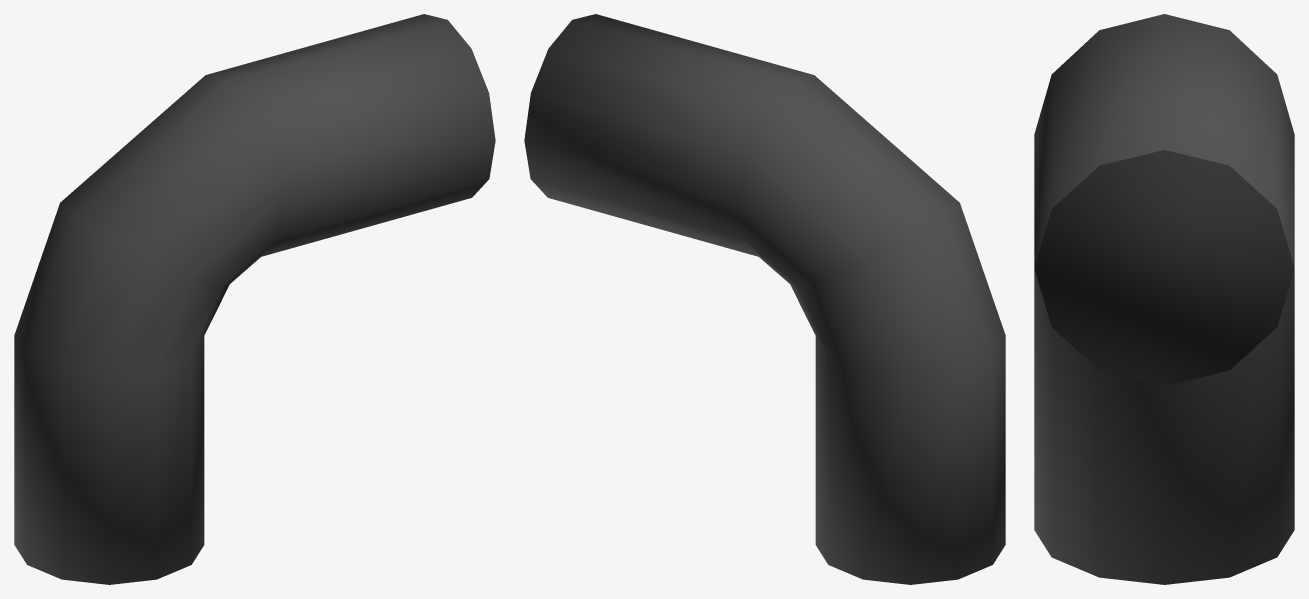
The model's file is Furnace 6 Pipe.glb.
The picture shows the model from 3 angles, left to right: view 1: azimuth 30°, elevation 25°; view 2: azimuth 150°, elevation 25°; view 3: azimuth 270°, elevation 25°; orthographic projection. The views are drawn at different scales.
Parts seen in each view (by area): view 1: Furnace 6 Pipe; view 2: Furnace 6 Pipe; view 3: Furnace 6 Pipe.
Part boxes in pixels (x1=…): Furnace 6 Pipe: x1=14, y1=14, x2=495, y2=584; Furnace 6 Pipe: x1=524, y1=14, x2=1005, y2=584; Furnace 6 Pipe: x1=1034, y1=14, x2=1294, y2=584.
Size of what is drawn, in the model's own units: 1.04 by 1.05 by 0.4075.
Materials: 1 (1 with a texture image).
